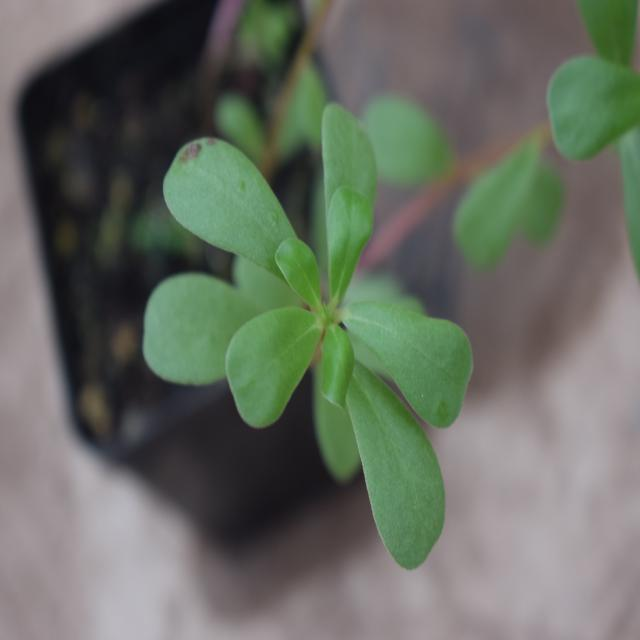purslane: (133, 87, 481, 559)
